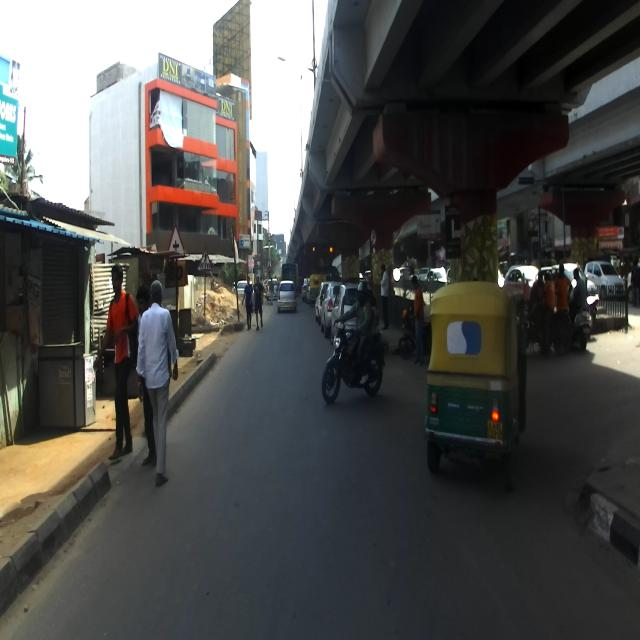auto ahead at: (425, 281, 534, 473)
motorcycle ahead at: (321, 307, 392, 411)
person ahead at: (140, 277, 180, 488)
sign board ahead at: (167, 230, 186, 264)
